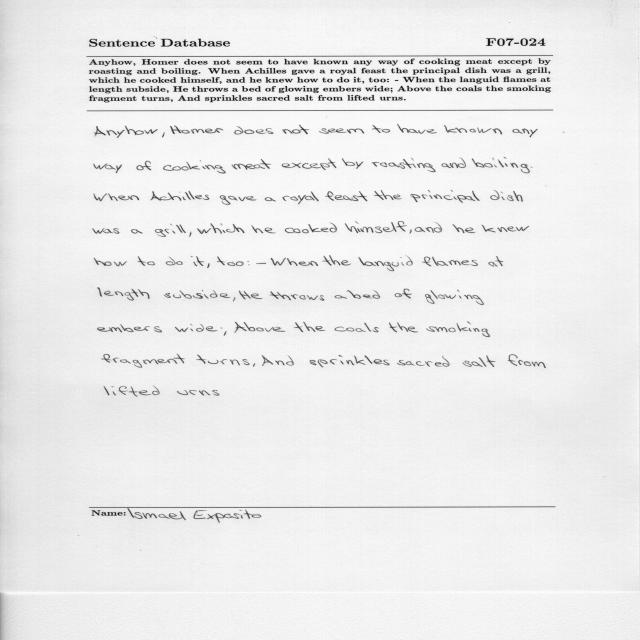word: (102, 354, 185, 368), (426, 322, 490, 337), (310, 355, 390, 367), (425, 289, 484, 305), (472, 157, 530, 173), (411, 190, 480, 203), (372, 158, 436, 172), (95, 126, 165, 138), (163, 161, 226, 174), (359, 256, 413, 271), (164, 290, 236, 301), (345, 221, 407, 233), (98, 288, 150, 301), (282, 158, 336, 170), (151, 191, 210, 201), (97, 324, 162, 333), (234, 322, 286, 333), (398, 356, 450, 367), (422, 257, 478, 267), (104, 386, 160, 396), (270, 291, 324, 301), (196, 355, 250, 365), (508, 354, 546, 368), (444, 126, 502, 135), (285, 223, 337, 233), (282, 192, 319, 205), (155, 224, 191, 237), (232, 159, 272, 170), (326, 192, 368, 202), (397, 124, 437, 134), (490, 190, 523, 202), (335, 323, 379, 332), (463, 355, 496, 367), (271, 258, 318, 266), (211, 223, 245, 234), (94, 194, 139, 202), (220, 195, 256, 205), (262, 355, 294, 366), (482, 225, 530, 232), (175, 324, 217, 332), (235, 127, 274, 135), (294, 322, 325, 332), (415, 222, 442, 233), (347, 290, 380, 299), (322, 256, 351, 266), (389, 323, 418, 333), (374, 190, 402, 200), (319, 128, 364, 134), (94, 258, 127, 266), (182, 128, 224, 134), (94, 164, 122, 173), (441, 158, 466, 168), (283, 125, 310, 134), (512, 129, 538, 138), (342, 158, 363, 169), (191, 256, 210, 268), (177, 390, 219, 395), (251, 226, 276, 234), (453, 224, 475, 233), (138, 256, 155, 266), (395, 289, 412, 299), (93, 228, 120, 234), (489, 256, 503, 267), (166, 257, 183, 266), (372, 125, 390, 133), (137, 161, 152, 170), (239, 291, 251, 300), (170, 125, 181, 134), (227, 261, 244, 266), (197, 228, 211, 234), (217, 257, 225, 266), (251, 293, 262, 299), (131, 229, 143, 234), (265, 197, 276, 202), (335, 295, 347, 299), (221, 328, 227, 336), (409, 229, 412, 234), (247, 261, 250, 265), (256, 263, 266, 264), (253, 363, 255, 367), (531, 167, 532, 167)
